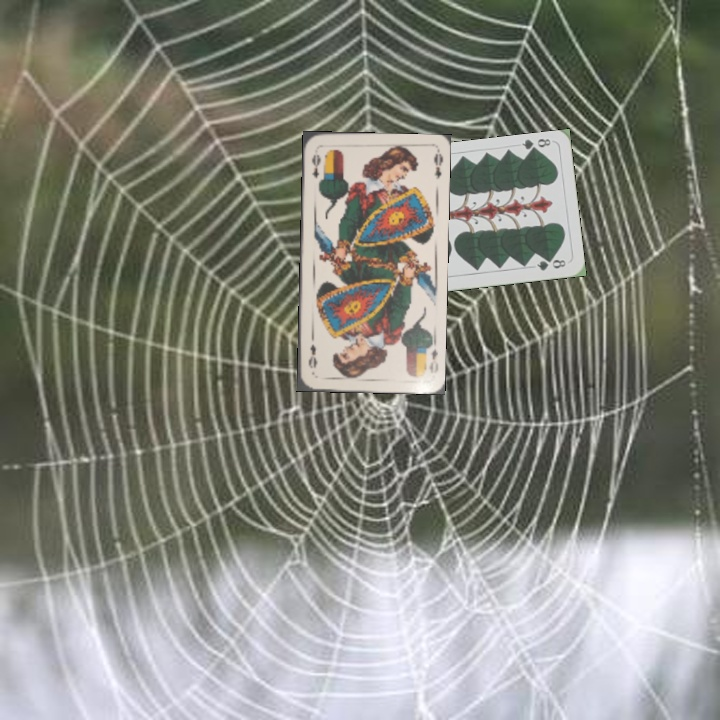EO: (421, 337, 441, 375), (308, 151, 323, 181)
G8: (518, 134, 553, 156)
